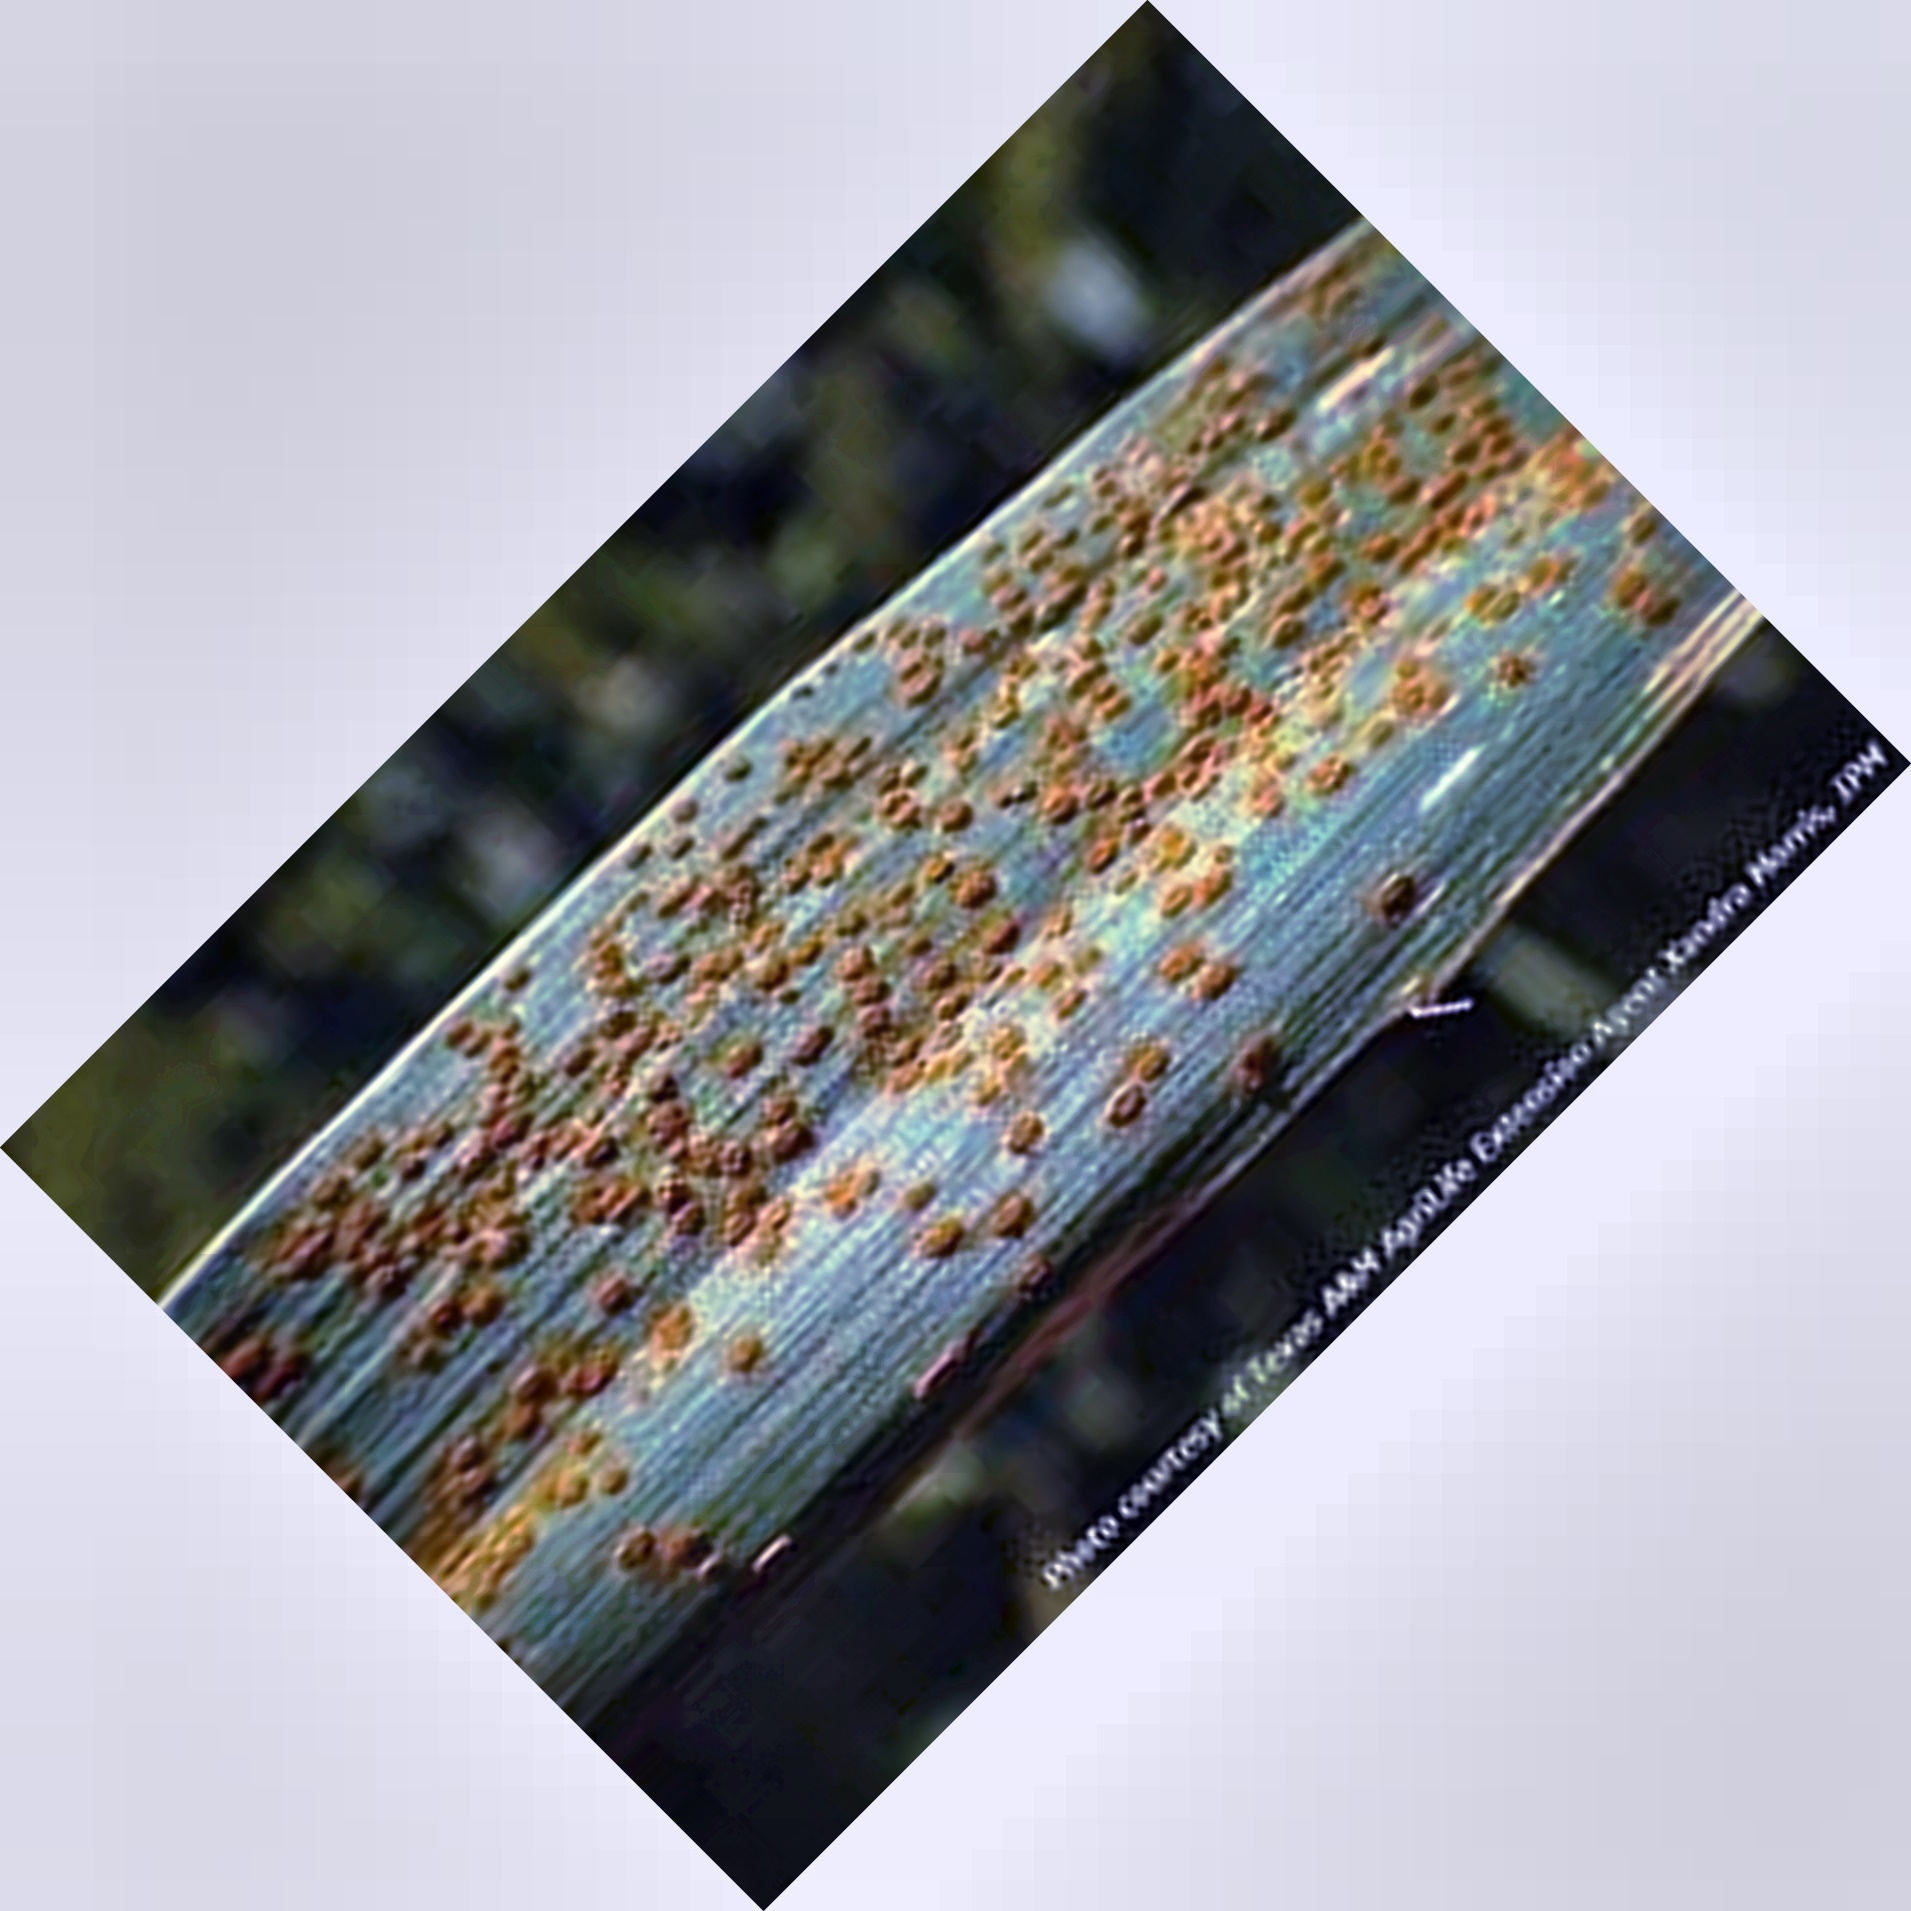Leaf Rust: (290, 387, 1598, 1465)
